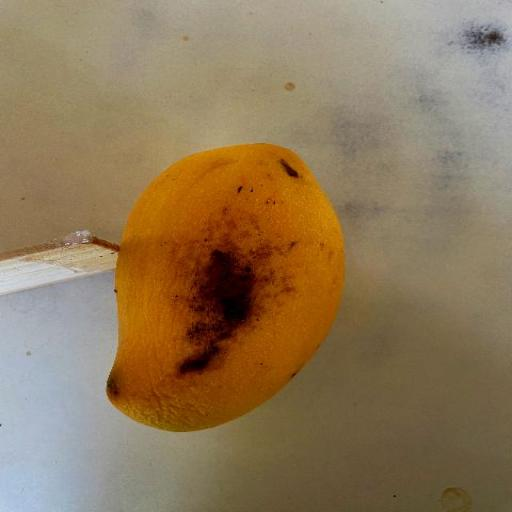mango-overripe: (75, 121, 359, 444)
